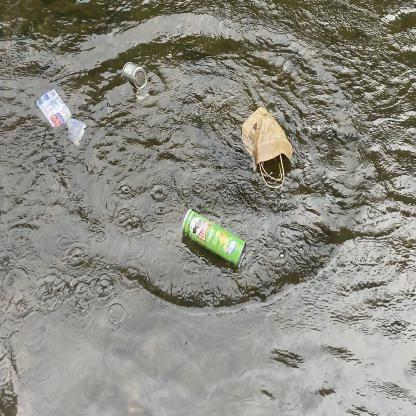Metal: (180, 204, 248, 273), (118, 60, 152, 94)
Plastic: (34, 86, 90, 151)
Trash: (240, 102, 297, 194)
